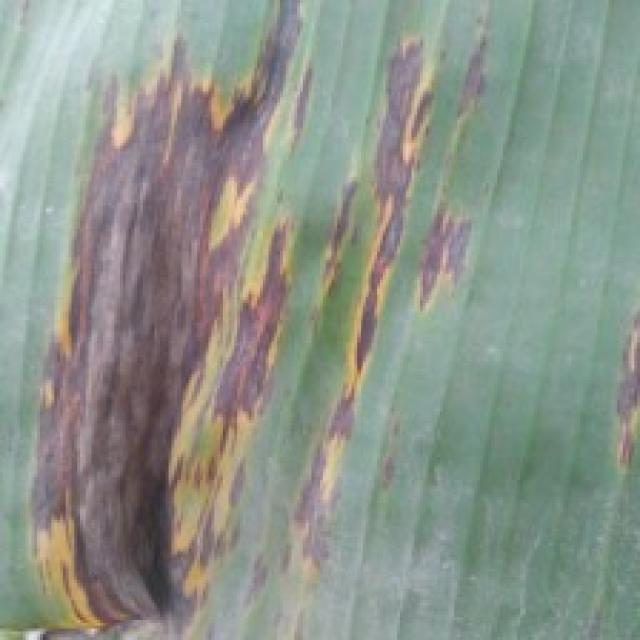Early_leaf_spot: (0, 8, 483, 640), (577, 276, 640, 554)
